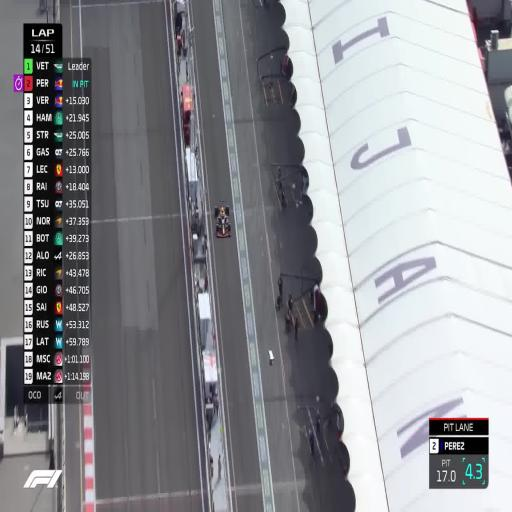f1_car: (214, 201, 230, 238)
